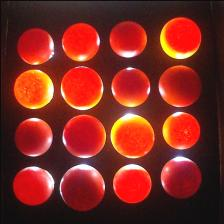fertile: (58, 163, 104, 211), (62, 114, 106, 158), (158, 64, 202, 106), (159, 155, 201, 198), (111, 66, 150, 106), (14, 118, 52, 156), (108, 19, 146, 57), (16, 28, 54, 64)
infertile: (110, 113, 154, 158), (59, 65, 103, 109), (158, 16, 200, 59), (111, 163, 152, 203), (12, 165, 52, 205), (13, 68, 53, 108), (60, 22, 100, 61), (161, 111, 200, 149)
